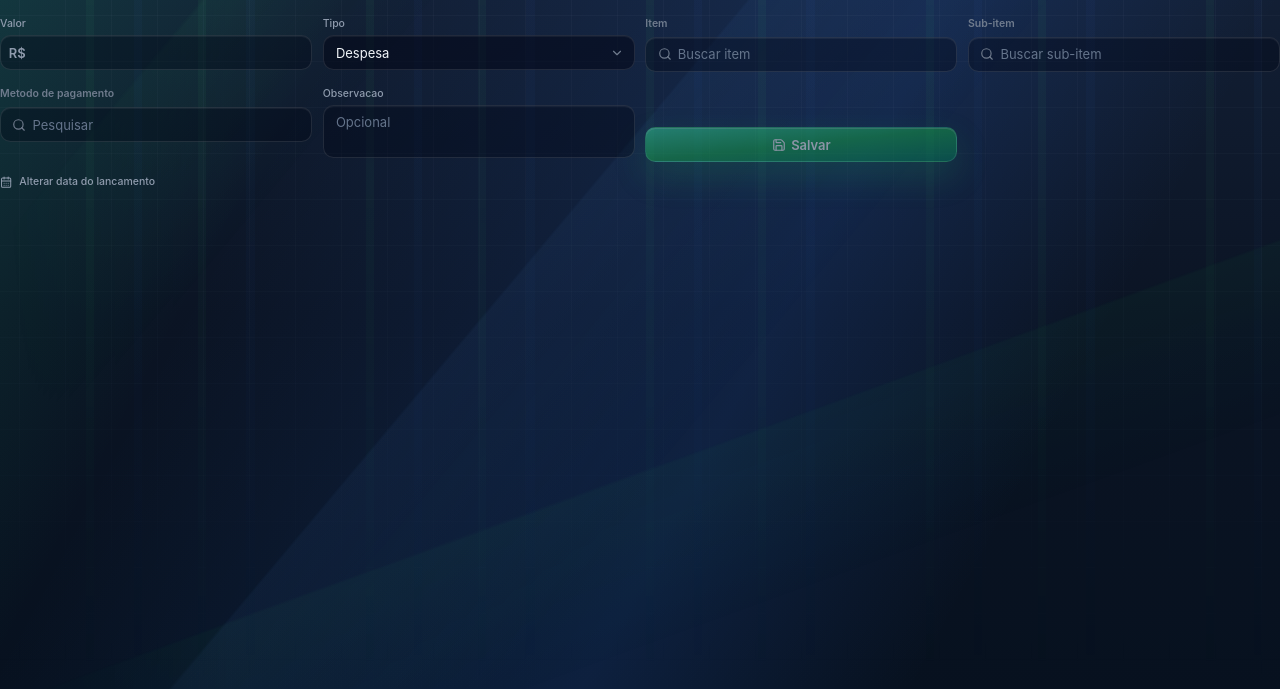
LancamentoForm item e sub-item › selecionar sub-item existente preenche o item correspondente
Focus the field labelled "sub-item" at (1124, 54), box [968,37,1279,72]
(page scrolled)
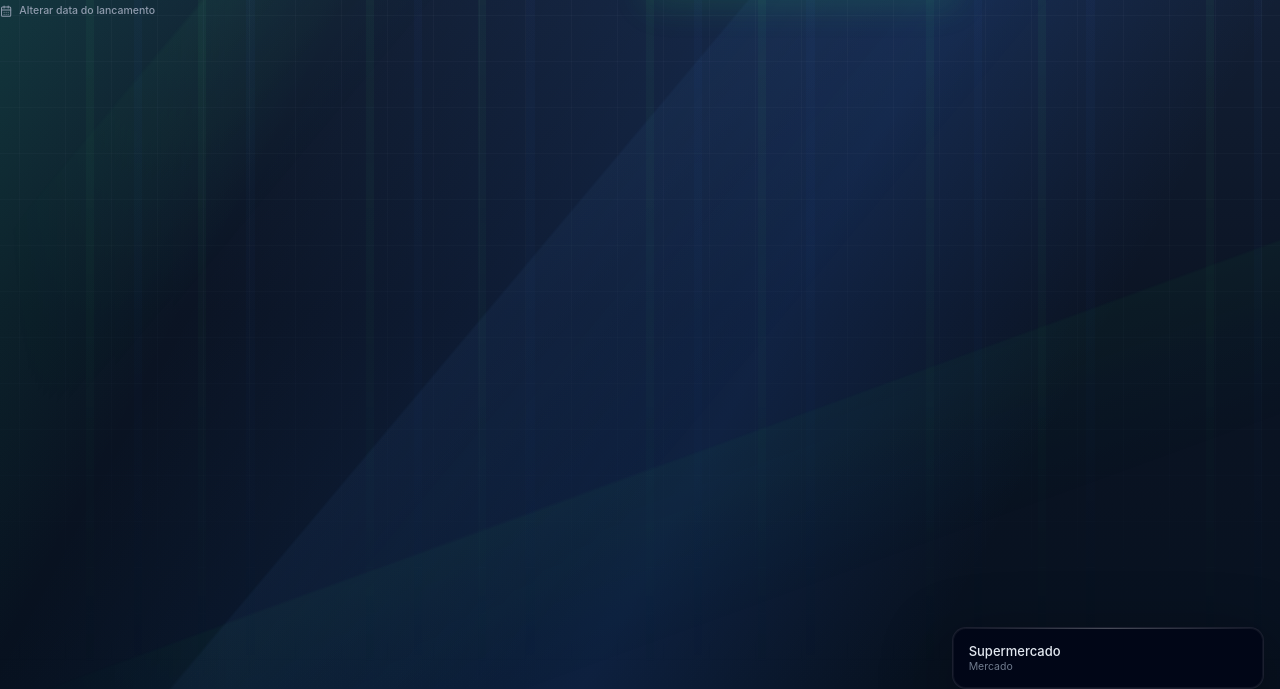
Click the text "Supermercado".
click(1015, 651)  # box [969,642,1061,660]
(page scrolled)
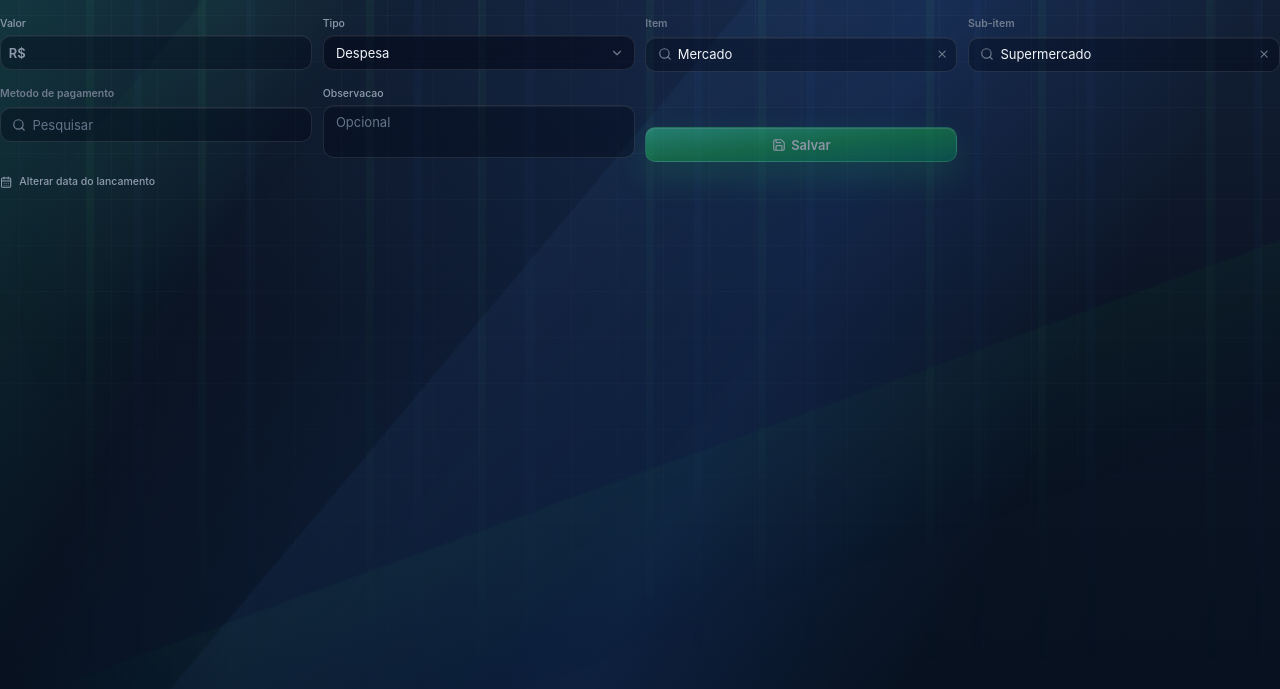
Expected: the field named "sub-item" holds "Supermercado", [968,37,1279,72]
Expected: the field named "item" holds "Mercado", [645,37,957,72]
